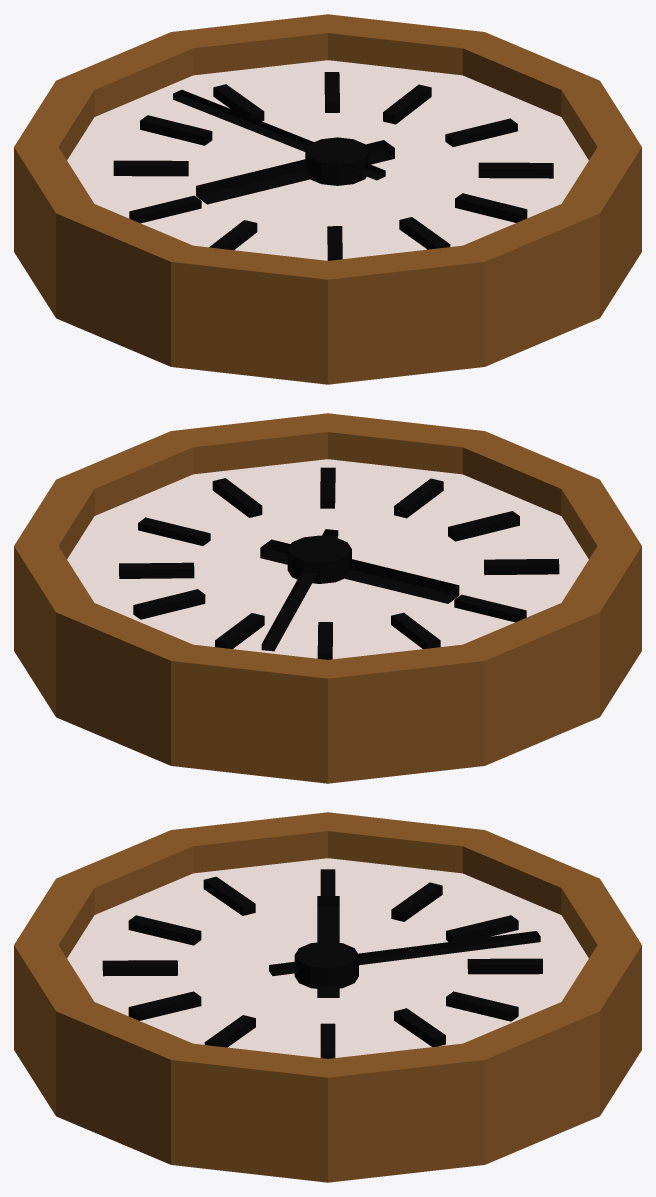
Rendered from basic clock.fbx.
3 renders of one model, top to bottom at view 1: azimuth 30°, elevation 25°; view 2: azimuth 150°, elevation 25°; view 3: azimuth 270°, elevation 25°, orthographic.
Visible parts, largest first — view 1: Cylinder, Cylinder.008, Cylinder.007, Cylinder.005, Cylinder.006, Cylinder.009, Cylinder.001, Cylinder.004, Cylinder.002, Cylinder.003; view 2: Cylinder, Cylinder.008, Cylinder.007, Cylinder.002, Cylinder.003, Cylinder.001, Cylinder.005, Cylinder.004, Cylinder.009, Cylinder.006; view 3: Cylinder, Cylinder.007, Cylinder.009, Cylinder.004, Cylinder.003, Cylinder.006, Cylinder.002, Cylinder.005, Cylinder.008, Cylinder.001.
Part boxes in pixels (x1,y1,x2,y2): Cylinder: (14, 14, 641, 384); Cylinder.008: (196, 140, 394, 204); Cylinder.007: (305, 137, 369, 185); Cylinder.005: (113, 160, 553, 178); Cylinder.006: (140, 115, 527, 222); Cylinder.009: (173, 89, 385, 180); Cylinder.001: (129, 118, 517, 223); Cylinder.004: (213, 84, 450, 249); Cylinder.002: (209, 84, 431, 250); Cylinder.003: (324, 72, 342, 260); Cylinder: (14, 413, 641, 783); Cylinder.008: (260, 539, 459, 603); Cylinder.007: (287, 535, 351, 583); Cylinder.002: (119, 558, 559, 578); Cylinder.003: (133, 511, 519, 619); Cylinder.001: (138, 517, 526, 622); Cylinder.005: (212, 478, 440, 648); Cylinder.004: (215, 478, 443, 648); Cylinder.009: (261, 529, 338, 651); Cylinder.006: (317, 467, 335, 659); Cylinder: (14, 812, 641, 1182); Cylinder.007: (294, 941, 358, 988); Cylinder.009: (269, 931, 540, 976); Cylinder.004: (102, 958, 542, 976); Cylinder.003: (128, 915, 518, 1021); Cylinder.006: (128, 915, 518, 1020); Cylinder.002: (203, 876, 445, 1046); Cylinder.005: (204, 882, 442, 1047); Cylinder.008: (317, 896, 339, 997); Cylinder.001: (320, 869, 335, 1058).
Size of the model in its own units: 200 by 36.91 by 200.
